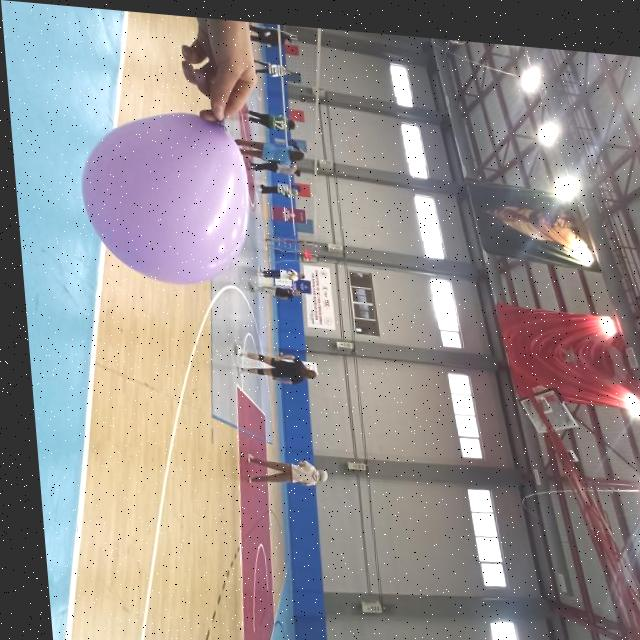balloon: (78, 95, 257, 281)
